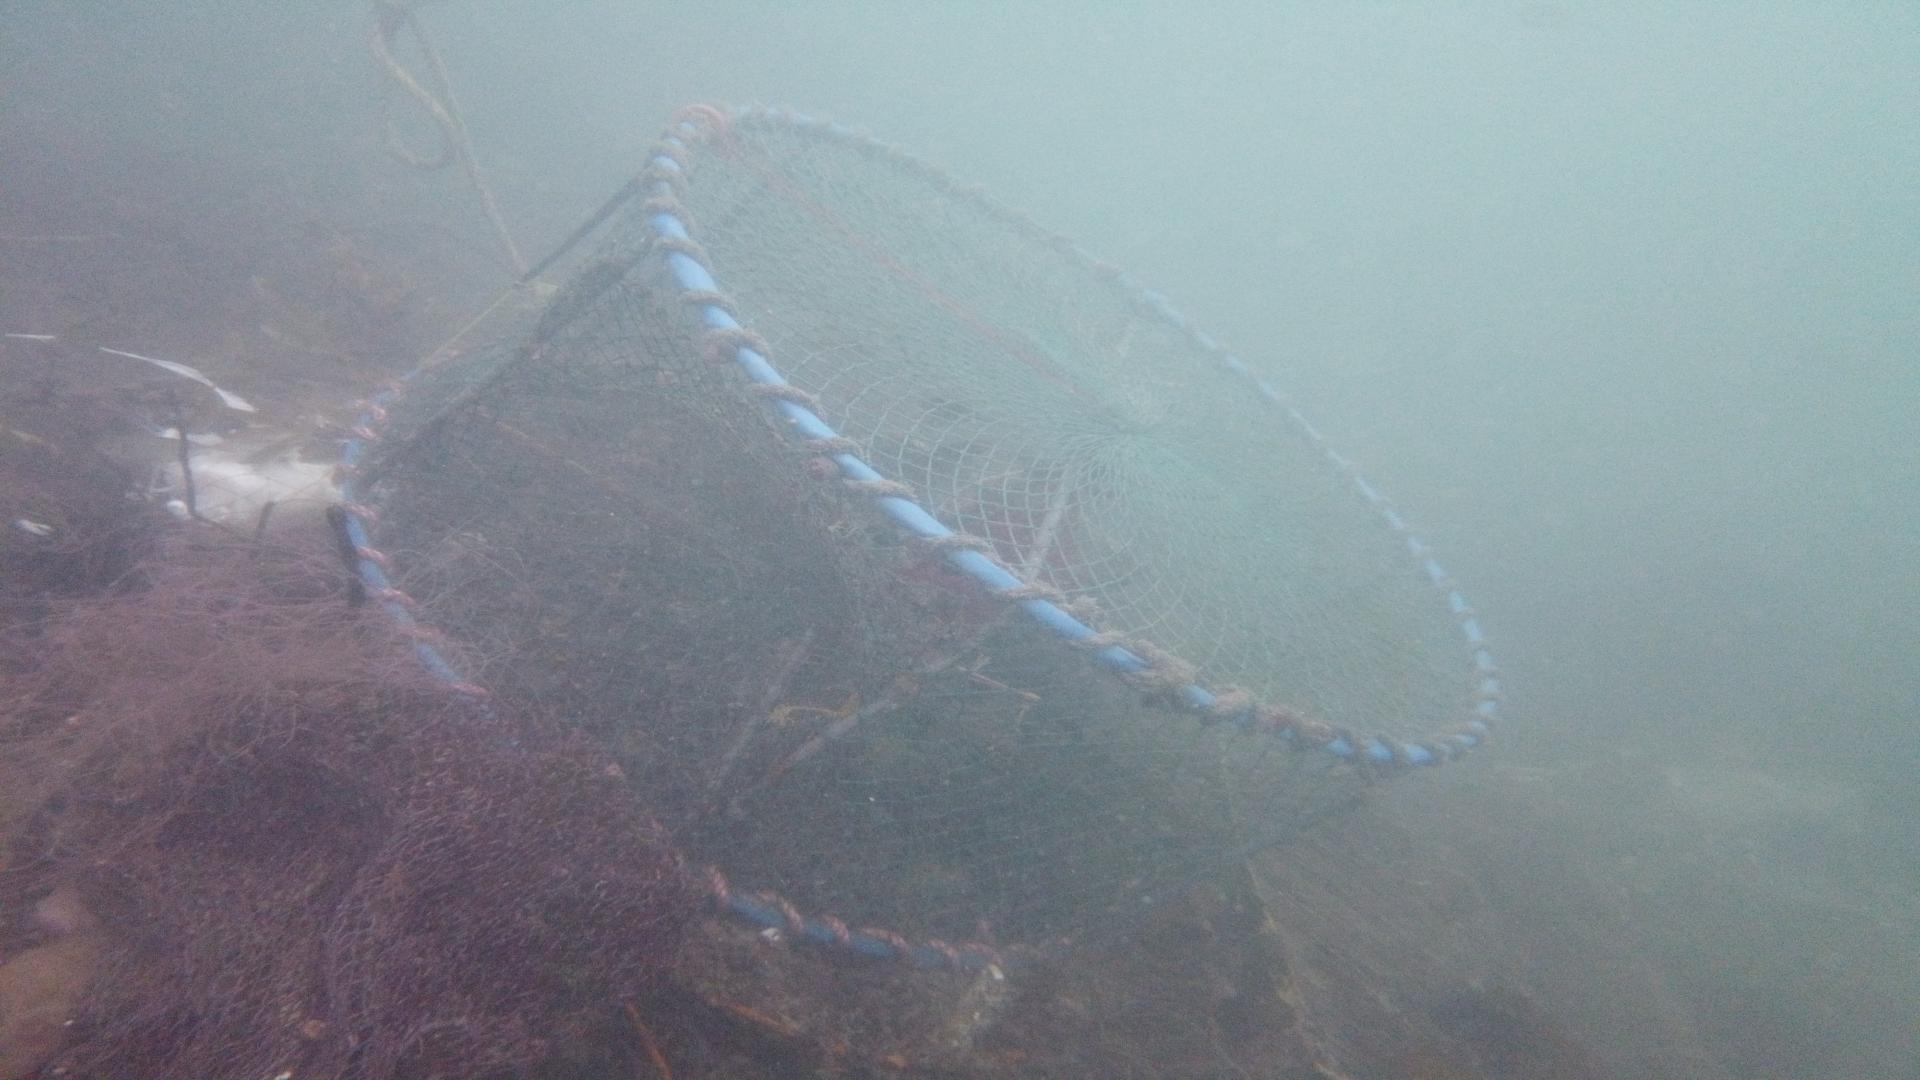bundle of ropes: (359, 0, 530, 280)
circular fish trap: (328, 104, 1501, 971)
